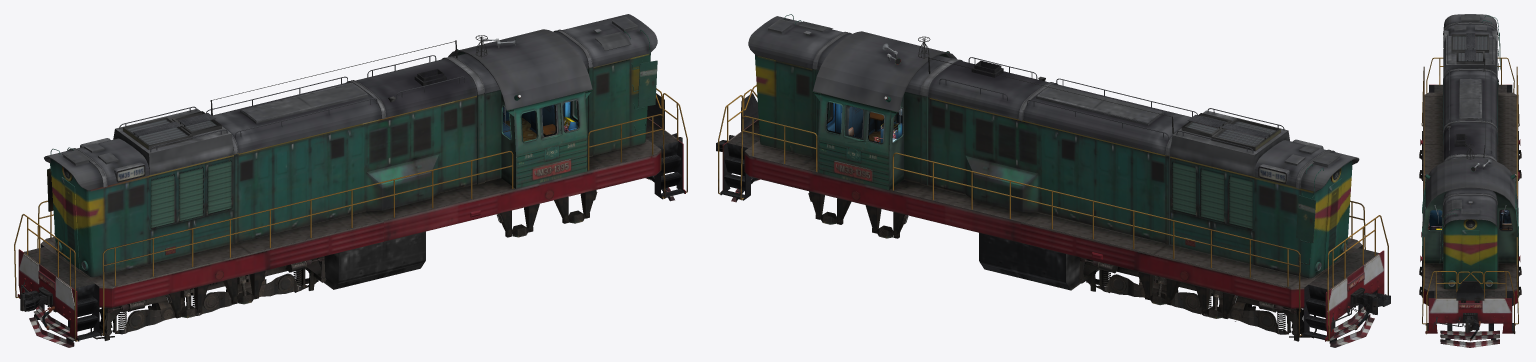
File: Character.glb
3 renders of one model, left to right at view 1: azimuth 30°, elevation 25°; view 2: azimuth 150°, elevation 25°; view 3: azimuth 270°, elevation 25°, orthographic. The views are drawn at different scales.
Parts seen in each view (by area): view 1: FRAME.004, FRAME.005, FRAME.006, FRAME.029, BOGEY_FRONT.001, BOGEY_FRONT.002, FRAME.001, FRAME.007; view 2: FRAME.006, FRAME.005, FRAME.004, FRAME.029, BOGEY_FRONT.001, BOGEY_FRONT.002, FRAME.007, FRAME.001; view 3: FRAME.005, FRAME.004, FRAME.006, FRAME.001, FRAME.007, CAB_LCG_SV_INTERIOR, CAB_LCG_SV_INTERIOR.005, CAB_LCG_SV_INTERIOR.011.
Boxes of the visible parts, bbox=[...] form: FRAME.004: bbox=[14, 29, 687, 347]; FRAME.005: bbox=[24, 14, 678, 288]; FRAME.006: bbox=[216, 32, 650, 289]; FRAME.029: bbox=[151, 161, 231, 227]; BOGEY_FRONT.001: bbox=[101, 258, 317, 334]; BOGEY_FRONT.002: bbox=[53, 256, 326, 340]; FRAME.001: bbox=[127, 119, 216, 144]; FRAME.007: bbox=[20, 133, 682, 311]; FRAME.006: bbox=[744, 34, 1304, 308]; FRAME.005: bbox=[727, 16, 1379, 289]; FRAME.004: bbox=[718, 14, 1388, 347]; FRAME.029: bbox=[1172, 162, 1252, 228]; BOGEY_FRONT.001: bbox=[1085, 259, 1298, 334]; BOGEY_FRONT.002: bbox=[1078, 257, 1350, 341]; FRAME.007: bbox=[716, 135, 1390, 331]; FRAME.001: bbox=[1187, 116, 1275, 146]; FRAME.005: bbox=[1422, 14, 1518, 298]; FRAME.004: bbox=[1419, 15, 1521, 347]; FRAME.006: bbox=[1421, 79, 1519, 305]; FRAME.001: bbox=[1453, 36, 1487, 61]; FRAME.007: bbox=[1433, 313, 1479, 333]; CAB_LCG_SV_INTERIOR: bbox=[1429, 210, 1511, 229]; CAB_LCG_SV_INTERIOR.005: bbox=[1430, 214, 1512, 229]; CAB_LCG_SV_INTERIOR.011: bbox=[1500, 210, 1510, 229].
Size of the model in its own units: 17.73 by 4.92 by 3.28.
56 materials, 53 textured.
